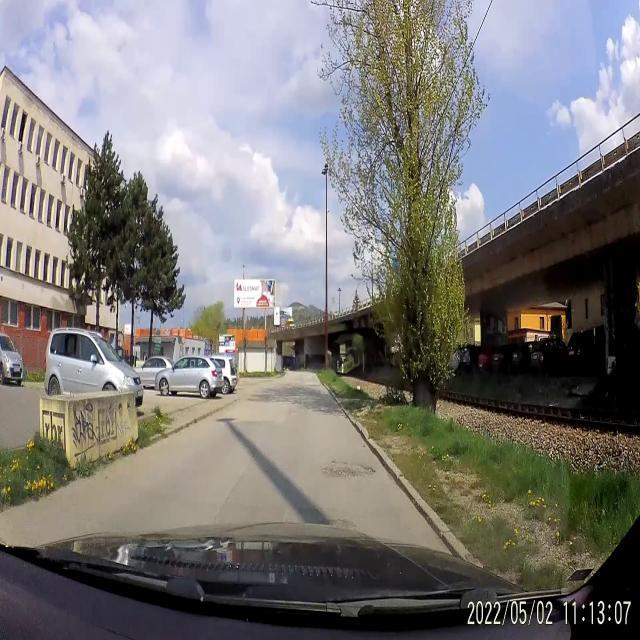Pothole: (322, 458, 378, 490), (316, 514, 364, 534)
